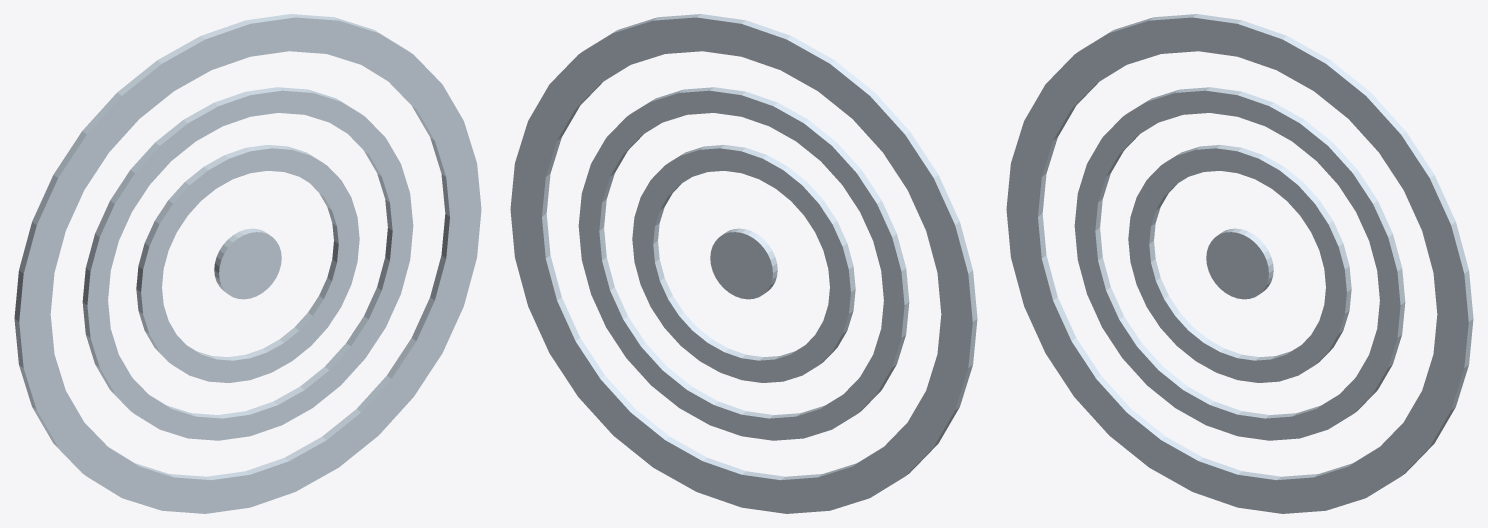
The model's file is Checker_Men_3D_Icon.fbx.
3 views of the same model, side by side, from view 1: azimuth 30°, elevation 25°; view 2: azimuth 150°, elevation 25°; view 3: azimuth 330°, elevation 25° (orthographic).
Parts seen in each view (by area): view 1: Checker_Men_3D_Icon; view 2: Checker_Men_3D_Icon; view 3: Checker_Men_3D_Icon.
Part boxes in pixels (x1,y1,x2,y2): Checker_Men_3D_Icon: [14, 14, 481, 513]; Checker_Men_3D_Icon: [510, 14, 977, 513]; Checker_Men_3D_Icon: [1006, 14, 1473, 513].
Size of the model in its own units: 112 by 112 by 2.
